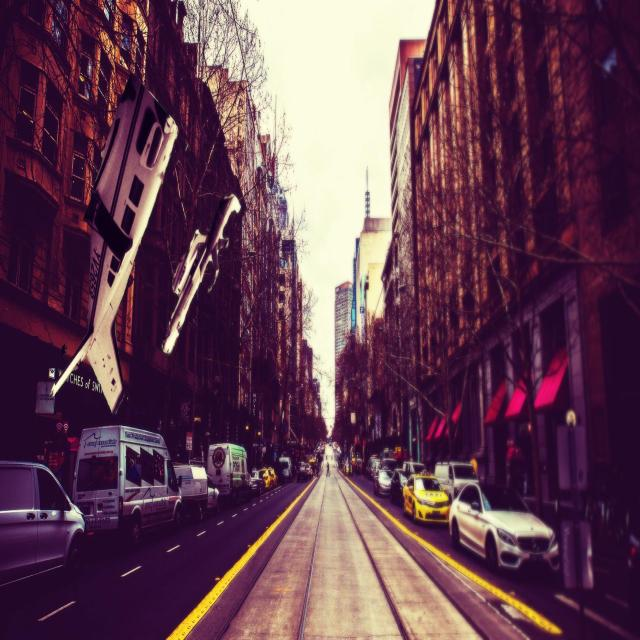airplane: (50, 70, 178, 411), (162, 191, 243, 354)
